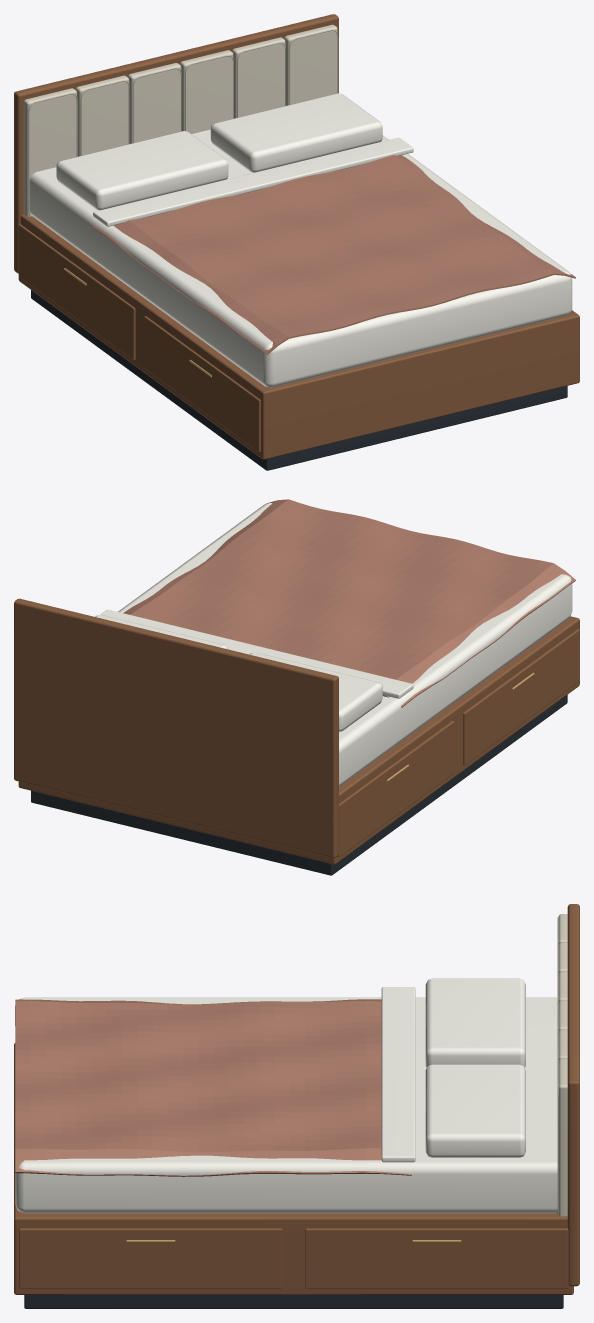
The model's file is apartment-queen-storage.glb.
3 renders of one model, top to bottom at view 1: azimuth 30°, elevation 25°; view 2: azimuth 150°, elevation 25°; view 3: azimuth 270°, elevation 25°, orthographic. The views are drawn at different scales.
Visible parts, largest first — view 1: apartment-queen-storage authored assembly; view 2: apartment-queen-storage authored assembly; view 3: apartment-queen-storage authored assembly.
Boxes of the visible parts, x1,y1,x2,y2 form: apartment-queen-storage authored assembly: [14, 14, 579, 470]; apartment-queen-storage authored assembly: [14, 499, 579, 875]; apartment-queen-storage authored assembly: [14, 904, 579, 1308].
Bounding box in the file's own units: 1.59 × 0.96 × 2.11.
